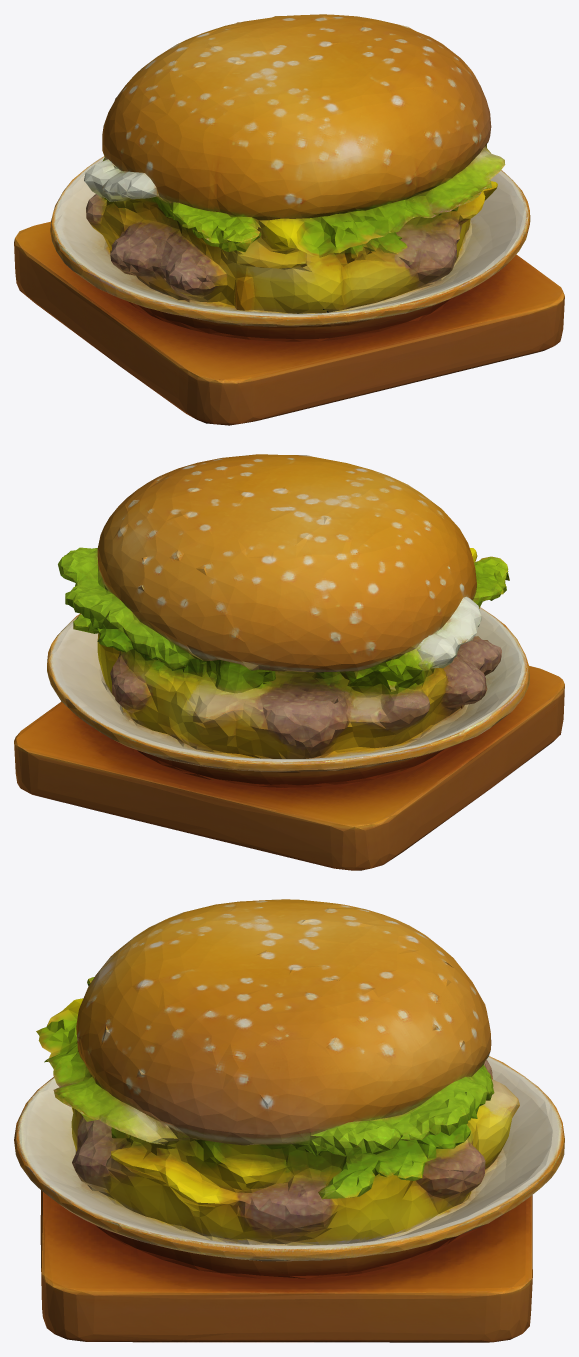
File: französischer_truffle_smash.glb
3 views of the same model, one above another, from view 1: azimuth 30°, elevation 25°; view 2: azimuth 150°, elevation 25°; view 3: azimuth 270°, elevation 25° (orthographic). The views are drawn at different scales.
Parts seen in each view (by area): view 1: world; view 2: world; view 3: world.
Boxes of the visible parts, x1,y1,x2,y2 form: world: (14, 14, 564, 425); world: (14, 454, 564, 870); world: (14, 899, 564, 1342).
Size of the model in its own units: 0.4973 by 0.2914 by 0.4897.
Materials: 1 (1 with a texture image).
